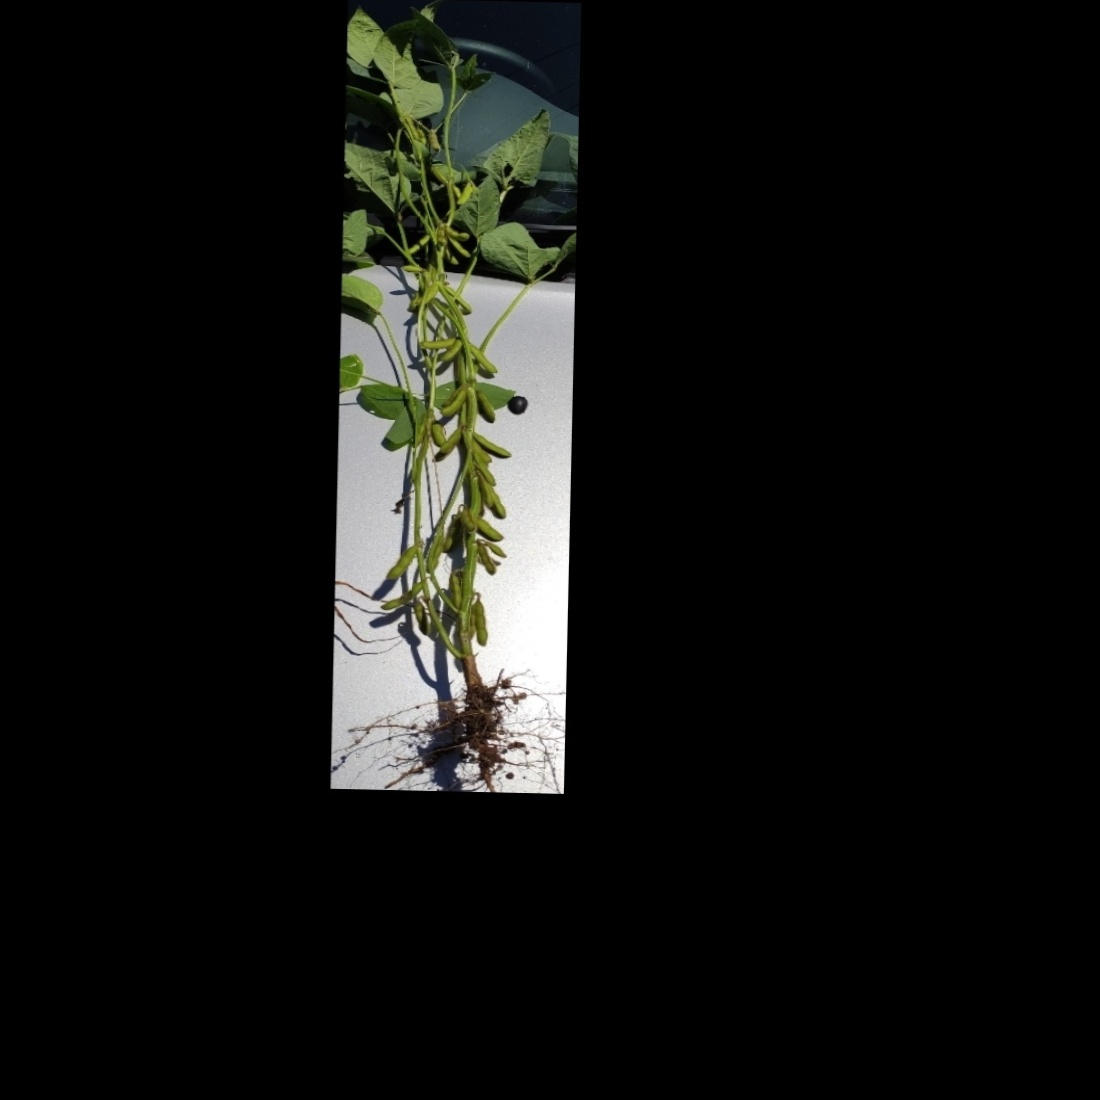pod: (385, 538, 422, 585), (379, 580, 422, 614), (466, 430, 513, 460), (469, 593, 493, 647), (434, 424, 467, 459), (469, 338, 499, 376), (474, 387, 500, 425), (474, 543, 498, 581), (438, 389, 468, 418), (476, 516, 509, 543), (416, 335, 460, 352), (443, 223, 471, 241)
soy: (338, 11, 580, 780)
